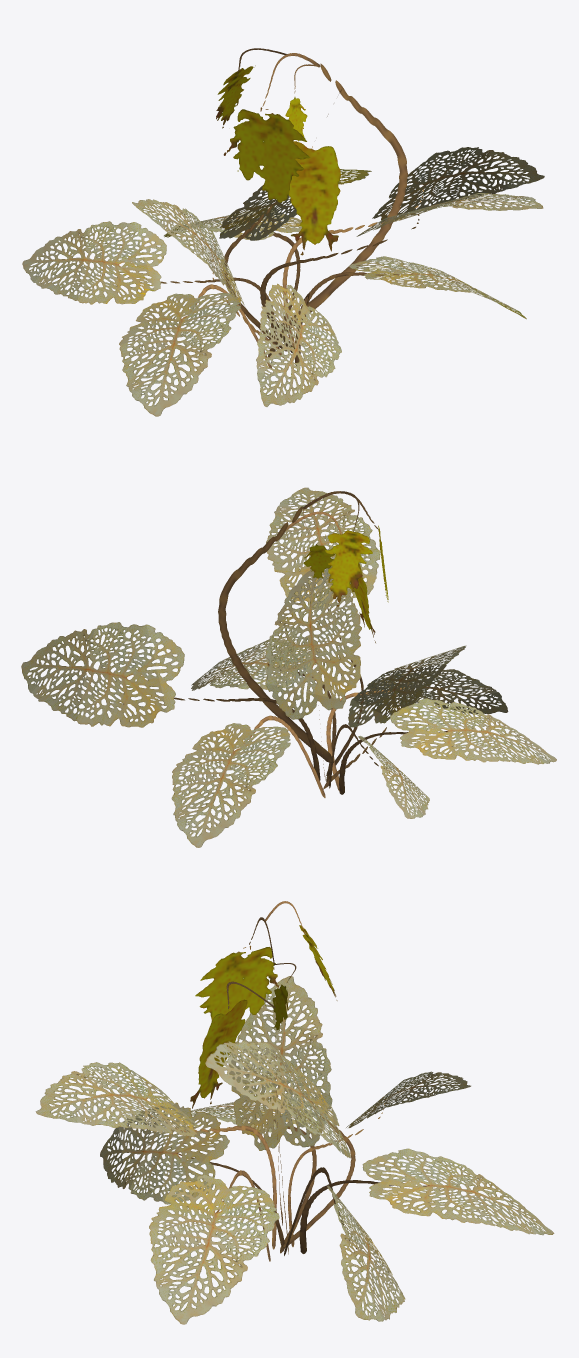
The model's file is Spin Reef A6.fbx.
The picture shows the model from 3 angles, top to bottom: view 1: azimuth 30°, elevation 25°; view 2: azimuth 150°, elevation 25°; view 3: azimuth 270°, elevation 25°; orthographic projection. The views are drawn at different scales.
Visible parts, largest first — view 1: Spin Reef A6; view 2: Spin Reef A6; view 3: Spin Reef A6.
Part boxes in pixels (bbox=[...]): Spin Reef A6: bbox=[22, 48, 544, 416]; Spin Reef A6: bbox=[21, 487, 556, 847]; Spin Reef A6: bbox=[35, 901, 554, 1324].
Size of the model in its own units: 220 by 149 by 196.
